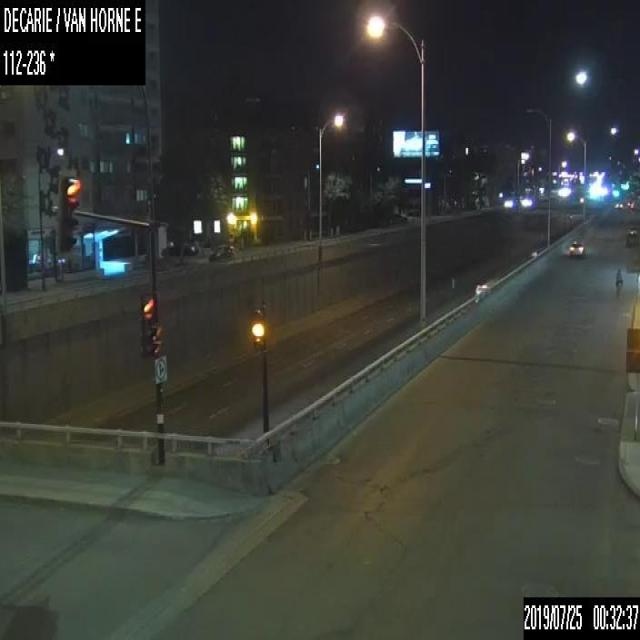cyclist: (614, 266, 624, 298)
vehicle: (473, 277, 498, 301), (165, 242, 198, 255), (208, 244, 233, 259), (624, 223, 639, 245), (567, 239, 584, 256)
